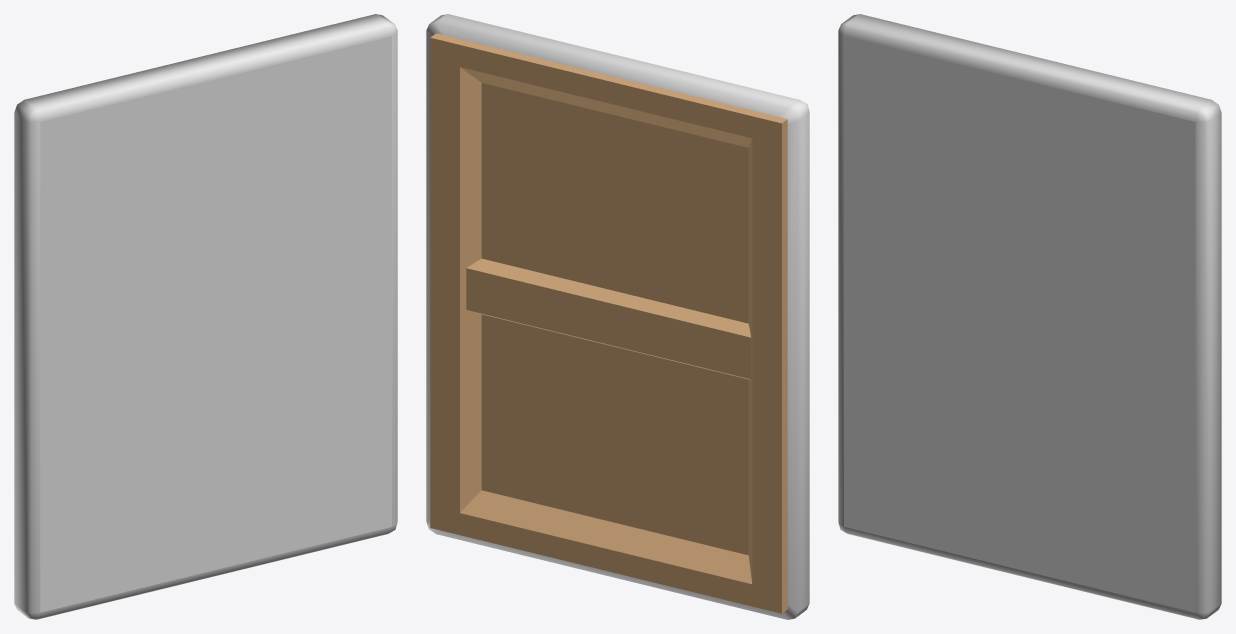
Rendered from painting_with_texture.dae.
The picture shows the model from 3 angles, left to right: view 1: azimuth 30°, elevation 25°; view 2: azimuth 150°, elevation 25°; view 3: azimuth 330°, elevation 25°; orthographic projection.
Parts seen in each view (by area): view 1: painting_with_texture; view 2: painting_with_texture; view 3: painting_with_texture.
Boxes of the visible parts, x1=… form: painting_with_texture: x1=14, y1=14, x2=397, y2=619; painting_with_texture: x1=426, y1=14, x2=809, y2=619; painting_with_texture: x1=838, y1=14, x2=1221, y2=619.
Size of the model in its own units: 1.19 by 0.1228 by 1.57.
